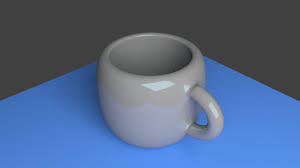cup: (97, 32, 229, 149)
